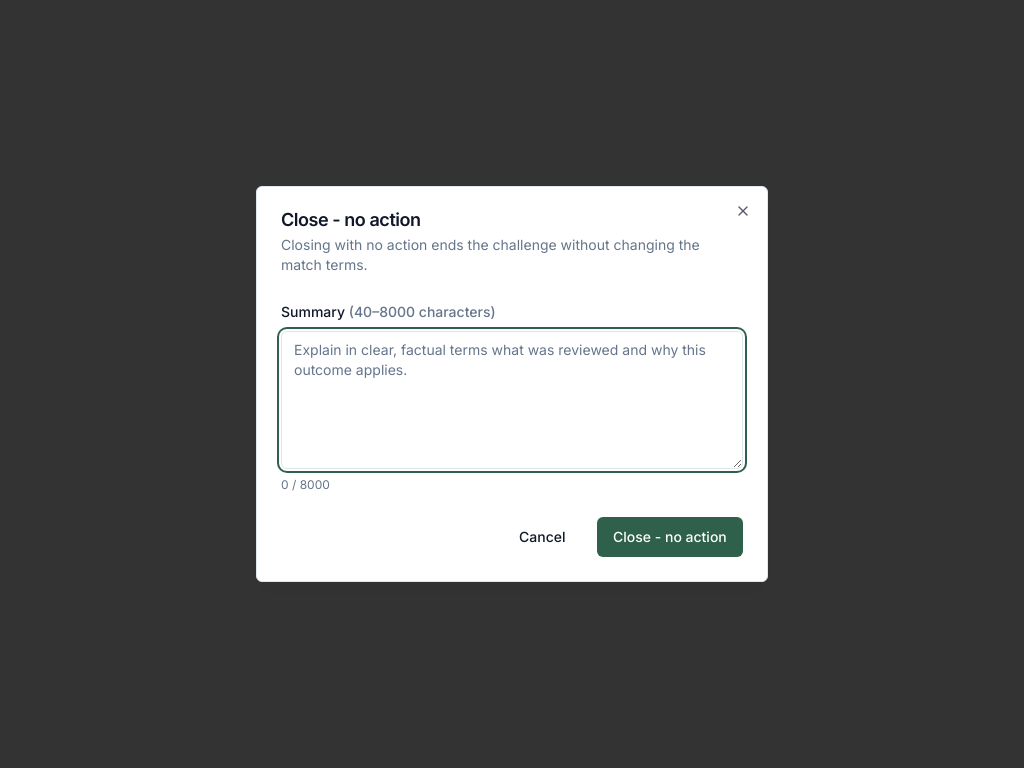
RecordOutcomeDialog — B1/B2/B3/B7 › B1: summary <40 chars blocks submit, no network call
The image size is (1024, 768).
Replace the text in the text box with test id "outcome-summary-input" with "too short": [512, 400] box [281, 331, 743, 469]
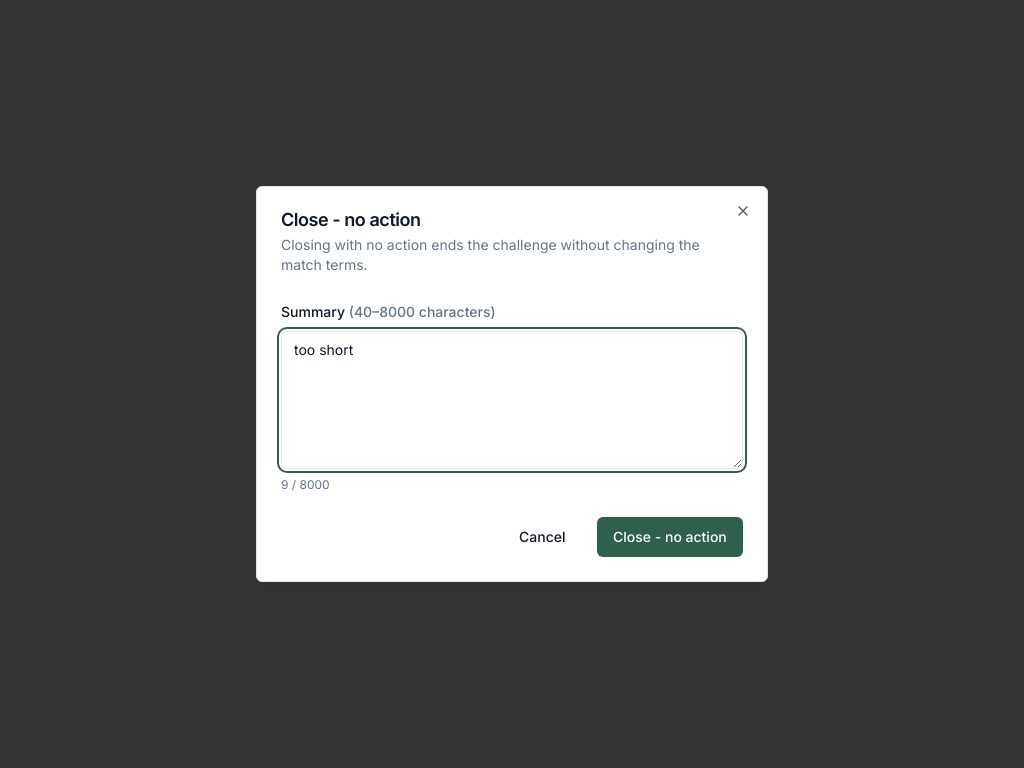
Click the button with test id "outcome-submit-button": [670, 537] box [597, 517, 743, 557]
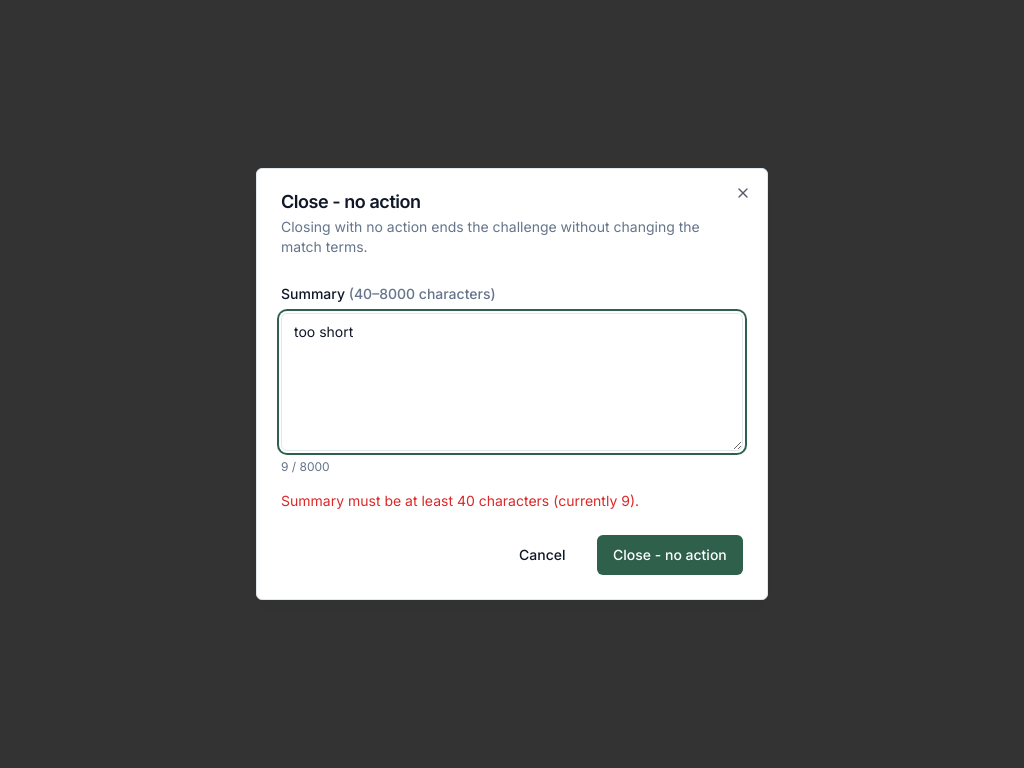
Now the message "Summary must be at least 40 characters (currently 9)." is shown, box [281, 492, 639, 509]
